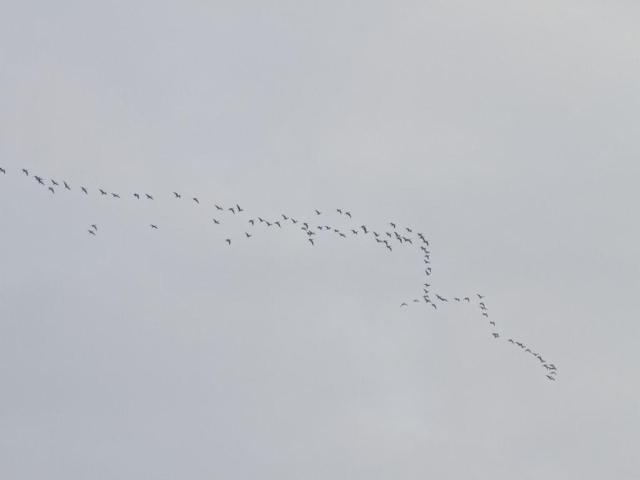Bird: (0, 165, 558, 382)
